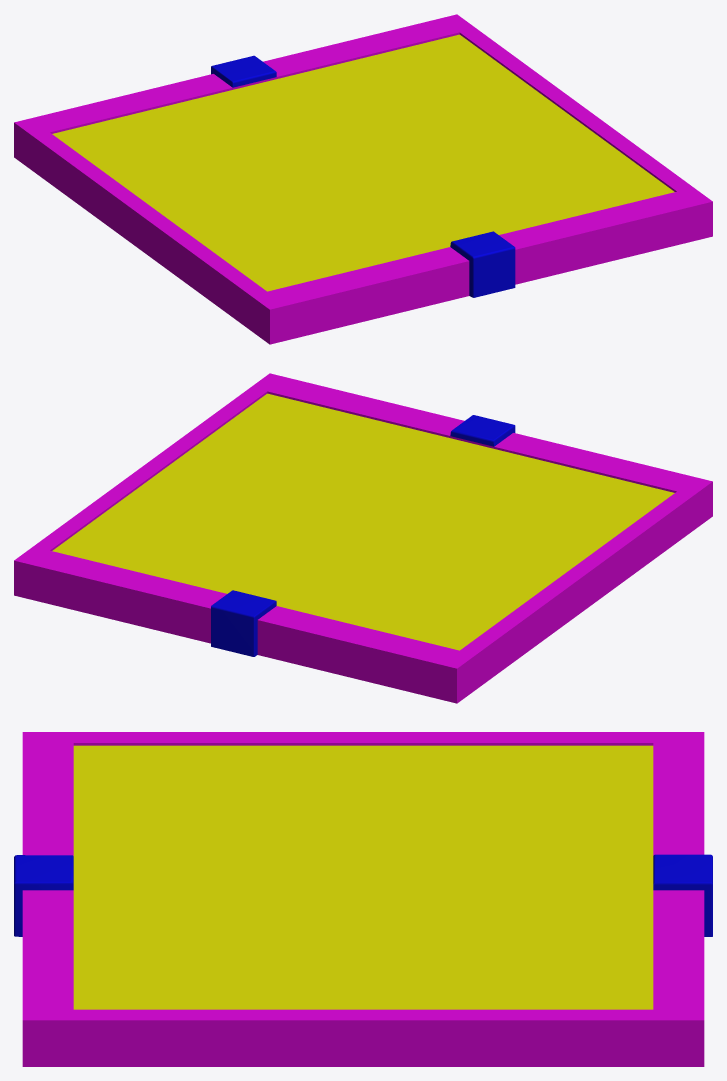
File: Trampa_fuego_2x2.fbx
3 renders of one model, top to bottom at view 1: azimuth 30°, elevation 25°; view 2: azimuth 150°, elevation 25°; view 3: azimuth 270°, elevation 25°, orthographic. The views are drawn at different scales.
Parts seen in each view (by area): view 1: polySurface7124; view 2: polySurface7124; view 3: polySurface7124.
Boxes of the visible parts, box(x1,y1,x2,y2) form: polySurface7124: box(14, 14, 712, 344); polySurface7124: box(14, 373, 712, 703); polySurface7124: box(14, 732, 712, 1066).
Size of the model in its own units: 2 by 0.1757 by 2.05.
